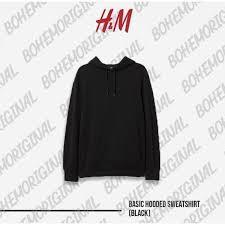sweater: (54, 55, 169, 190)
